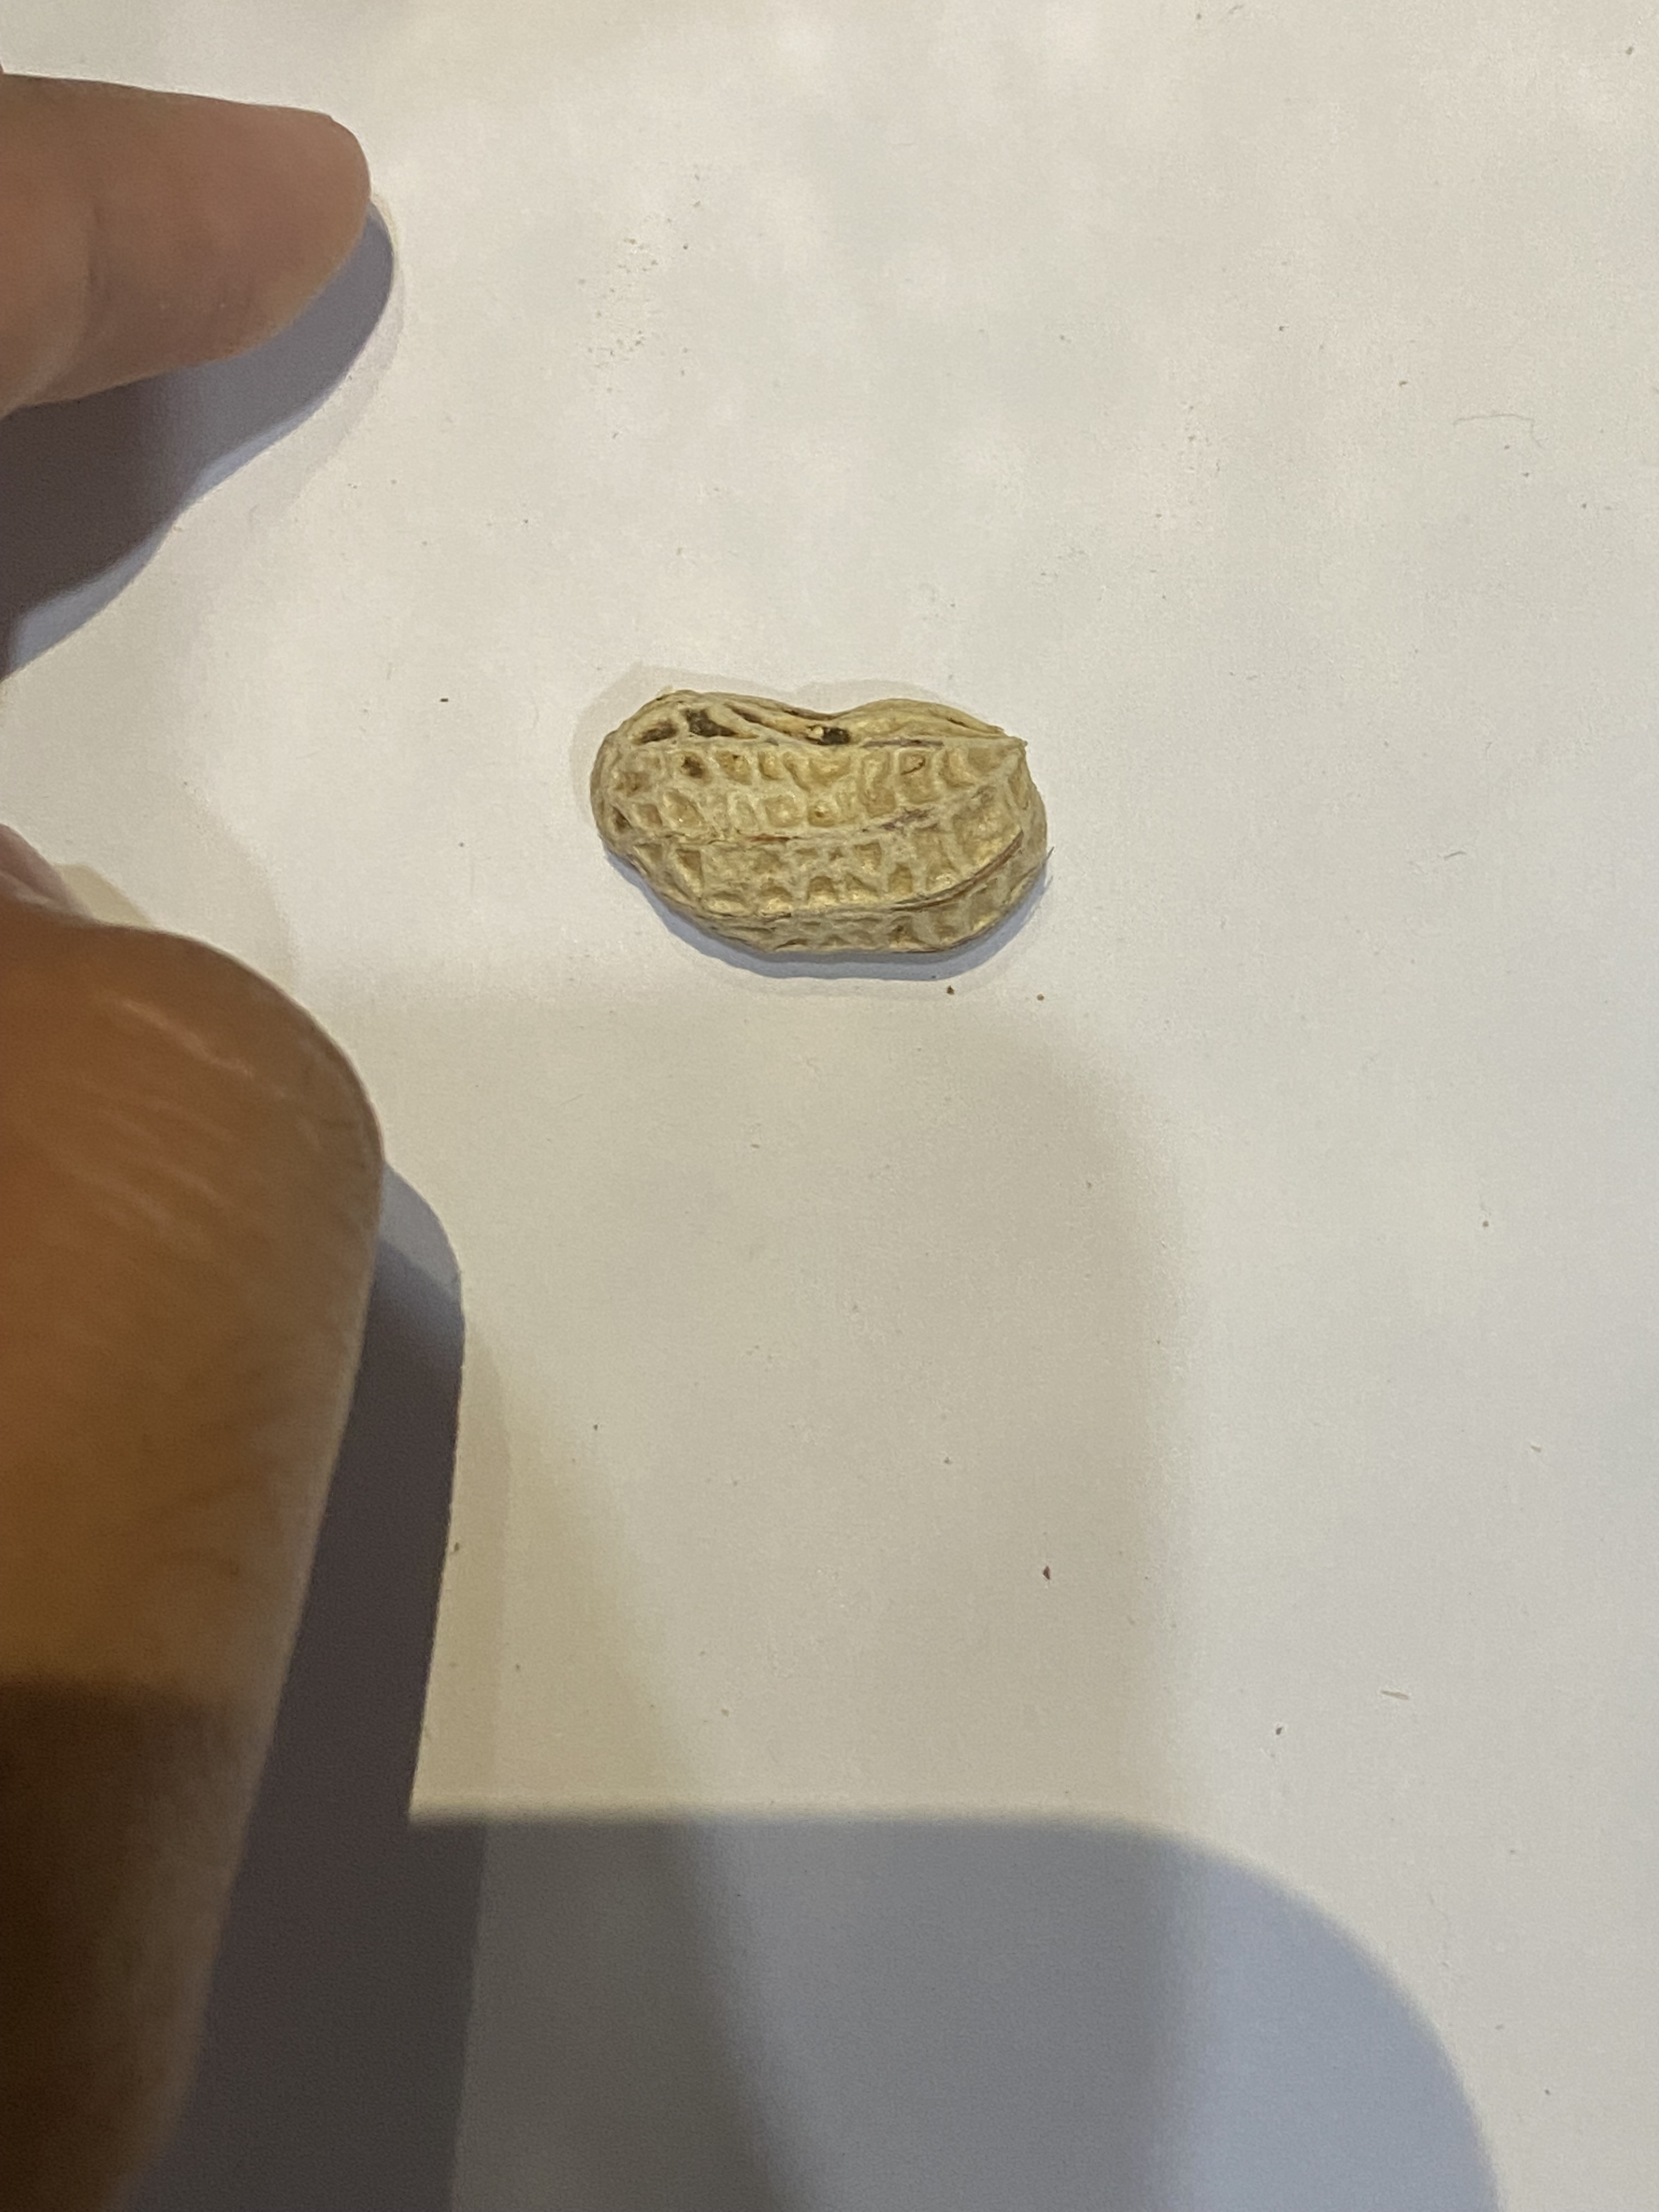kacang1: (580, 667, 1061, 965)
